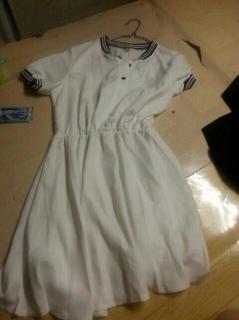short sleeve dress: (0, 35, 211, 319)
